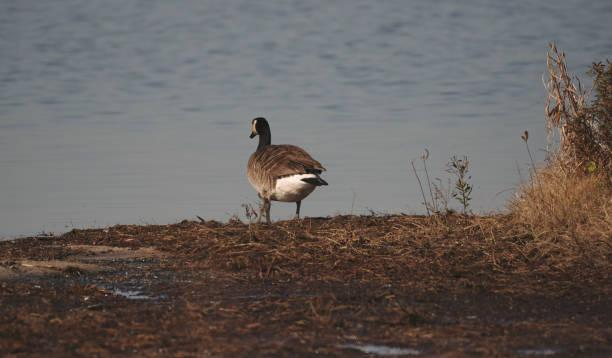Canadian-Goose: (244, 114, 328, 218)
